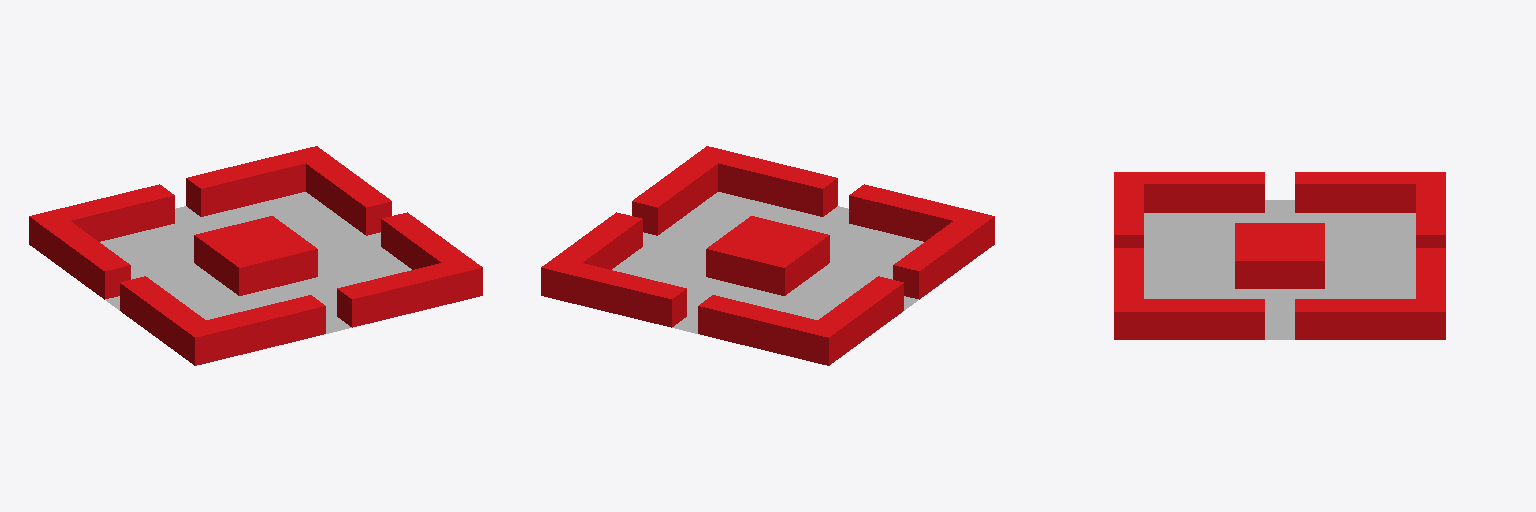
3 renders of one model, left to right at view 1: azimuth 30°, elevation 25°; view 2: azimuth 150°, elevation 25°; view 3: azimuth 270°, elevation 25°, orthographic.
Parts seen in each view (by area): view 1: Plane; view 2: Plane; view 3: Plane.
Boxes of the visible parts, x1,y1,x2,y2 form: Plane: [29, 146, 482, 365]; Plane: [541, 146, 994, 365]; Plane: [1114, 172, 1445, 339].
Bounding box in the file's own units: 16 × 1.5 × 16.
Materials: 2 (1 with a texture image).